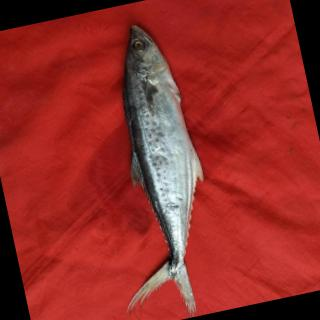Ikan: (77, 10, 245, 311)
